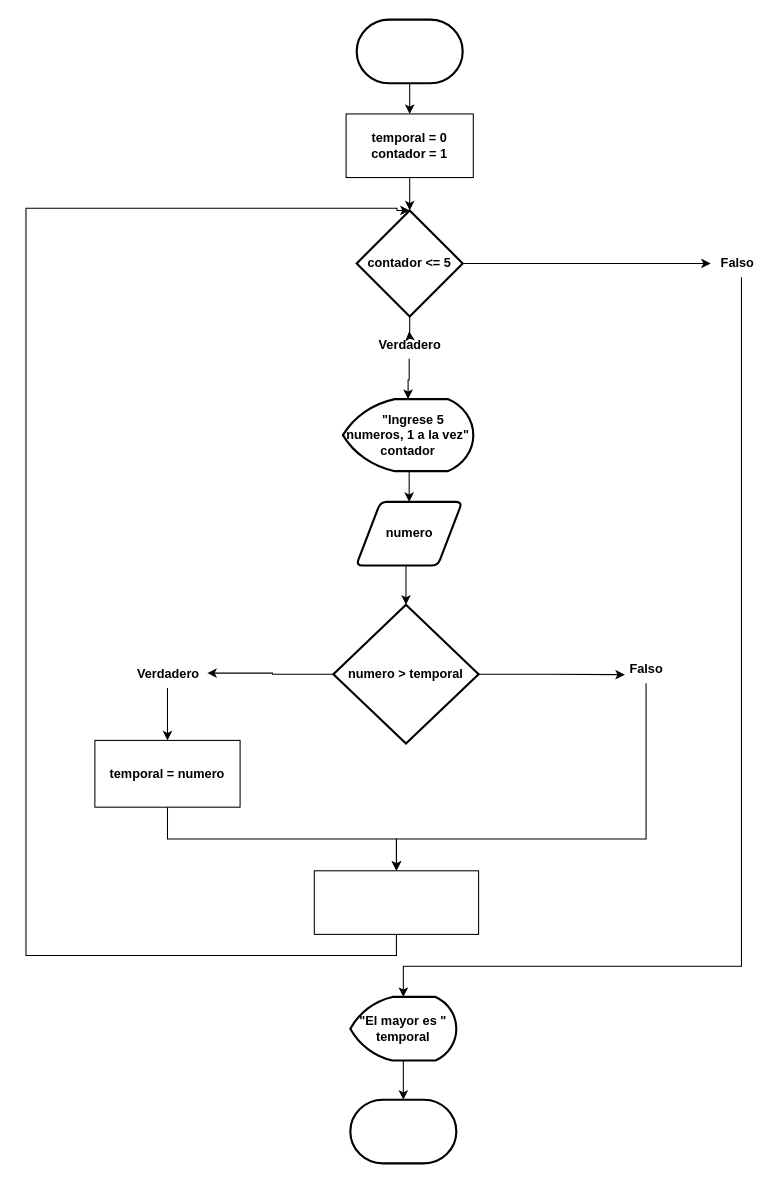
The diagram is 782 pixels wide and 1182 high, and some of its shapes have lost their labels. The centre of each missing label's shape, as x and y in pixels:
"contador = contador + 1" goes at [396,902].
"Fin" goes at [403,1131].
"Inicio" goes at [409,51].
